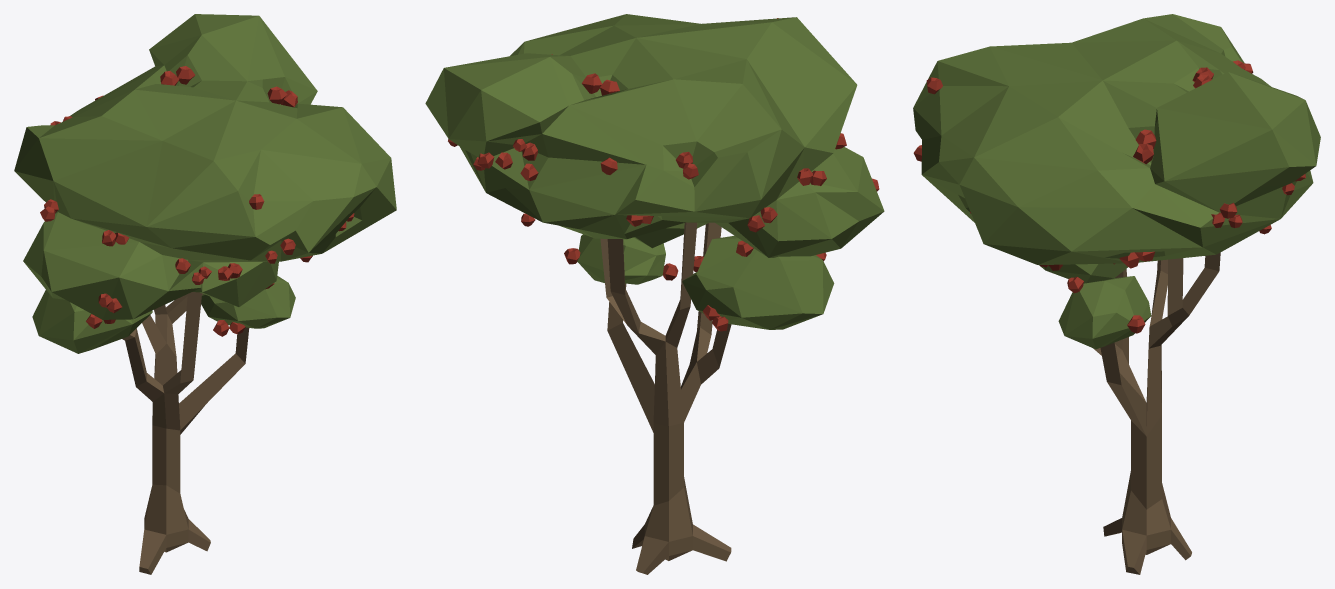
File: SM_Env_Tree_Cherry_Grown_01.glb
The picture shows the model from 3 angles, left to right: view 1: azimuth 30°, elevation 25°; view 2: azimuth 150°, elevation 25°; view 3: azimuth 270°, elevation 25°; orthographic projection. The views are drawn at different scales.
Parts seen in each view (by area): view 1: SM_Env_Tree_Cherry_Grown_01; view 2: SM_Env_Tree_Cherry_Grown_01; view 3: SM_Env_Tree_Cherry_Grown_01.
Boxes of the visible parts, <box> form: SM_Env_Tree_Cherry_Grown_01: <box>14,14,396,574</box>; SM_Env_Tree_Cherry_Grown_01: <box>425,14,884,574</box>; SM_Env_Tree_Cherry_Grown_01: <box>913,14,1320,574</box>.
Bounding box in the file's own units: 3.29 × 4.34 × 3.07.
1 material, 1 textured.
